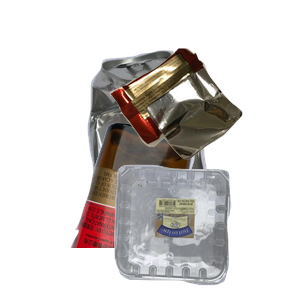glass: (68, 120, 255, 300)
metal: (85, 48, 300, 228)
plastic: (112, 162, 300, 300)
trash: (107, 46, 300, 198)
